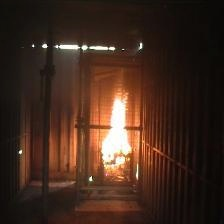fire: (98, 85, 138, 174)
